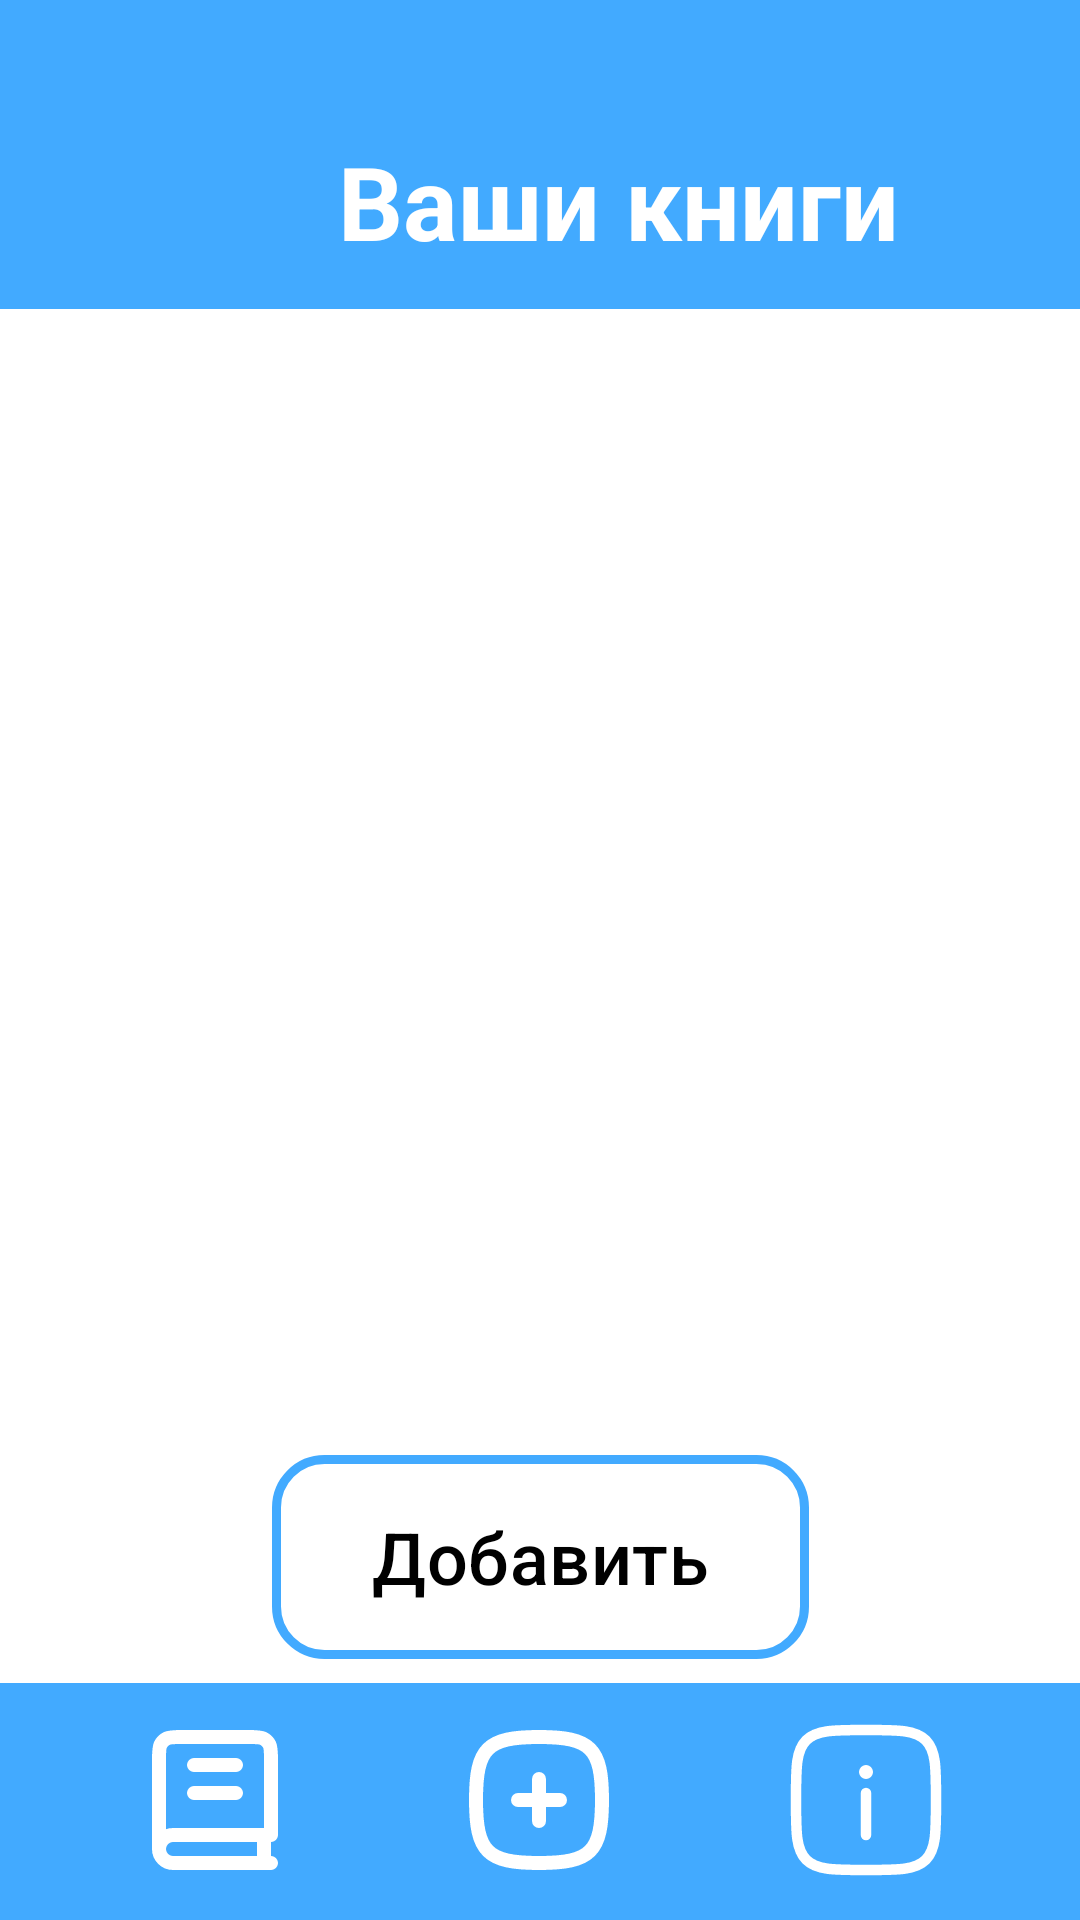

Point at icon controls on the screen. Image size 1080*1920, points as [x,y].
book: [215,1800]
info square: [866,1800]
plus square: [539,1800]
